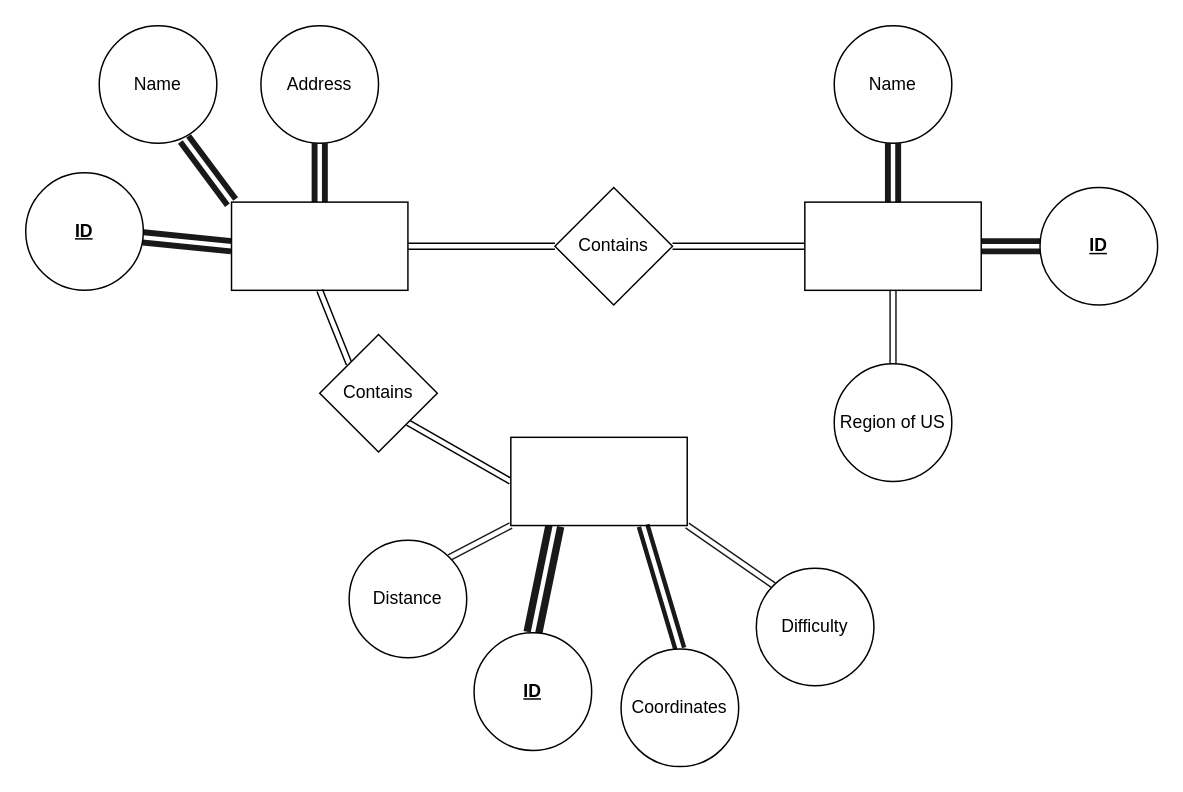
Image size: 1183x792. Some labels were removed from this diagram. The shapes that lost their labels are listed below. From the top down, each one's centre as x and y in pixels, then its label:
At point 319,245: "National Park".
At point 892,245: "State".
At point 598,481: "Hike".
